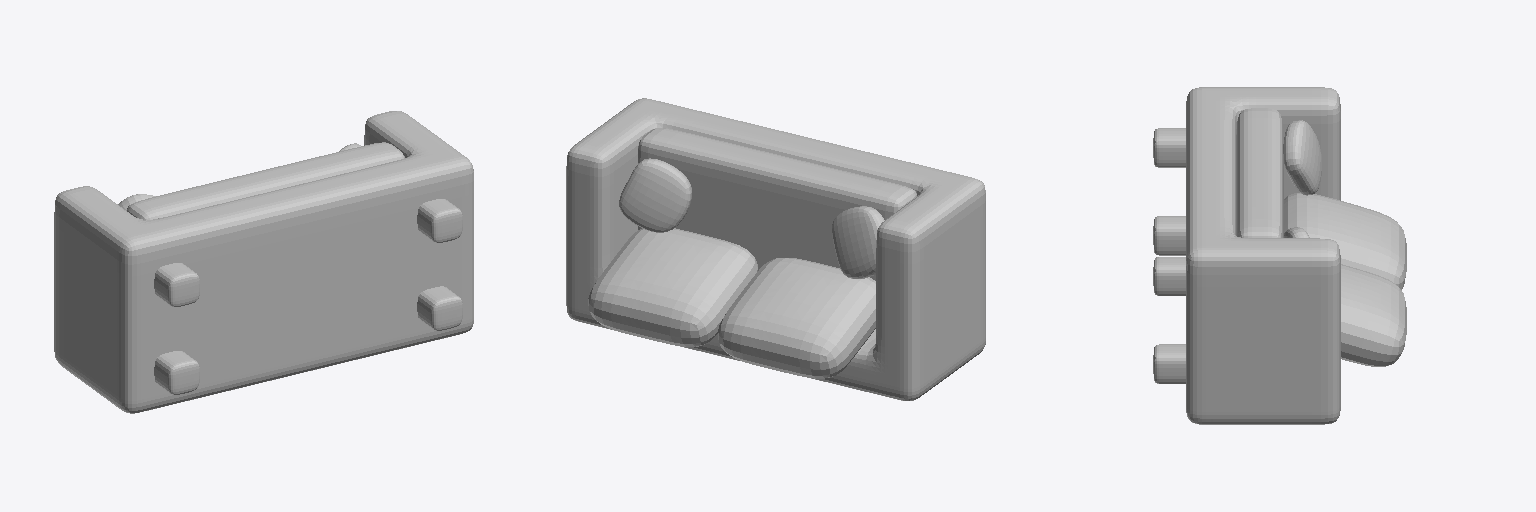
File: couch.obj
The picture shows the model from 3 angles: view 1: azimuth 30°, elevation 25°; view 2: azimuth 150°, elevation 25°; view 3: azimuth 270°, elevation 25°; orthographic projection.
Parts seen in each view (by area): view 1: couch; view 2: couch; view 3: couch.
Part boxes in pixels (bbox=[...]): couch: bbox=[54, 111, 473, 413]; couch: bbox=[566, 98, 985, 400]; couch: bbox=[1153, 87, 1406, 424].
Bounding box in the file's own units: 1.9 × 0.9 × 1.18.